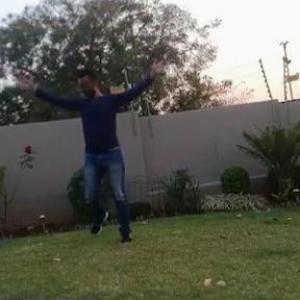takeoff: (16, 56, 169, 254)
